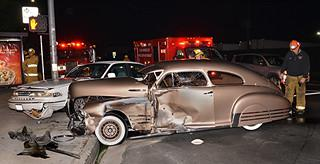doorouter-dent: (154, 87, 204, 129)
fender-dent: (86, 95, 150, 125)
